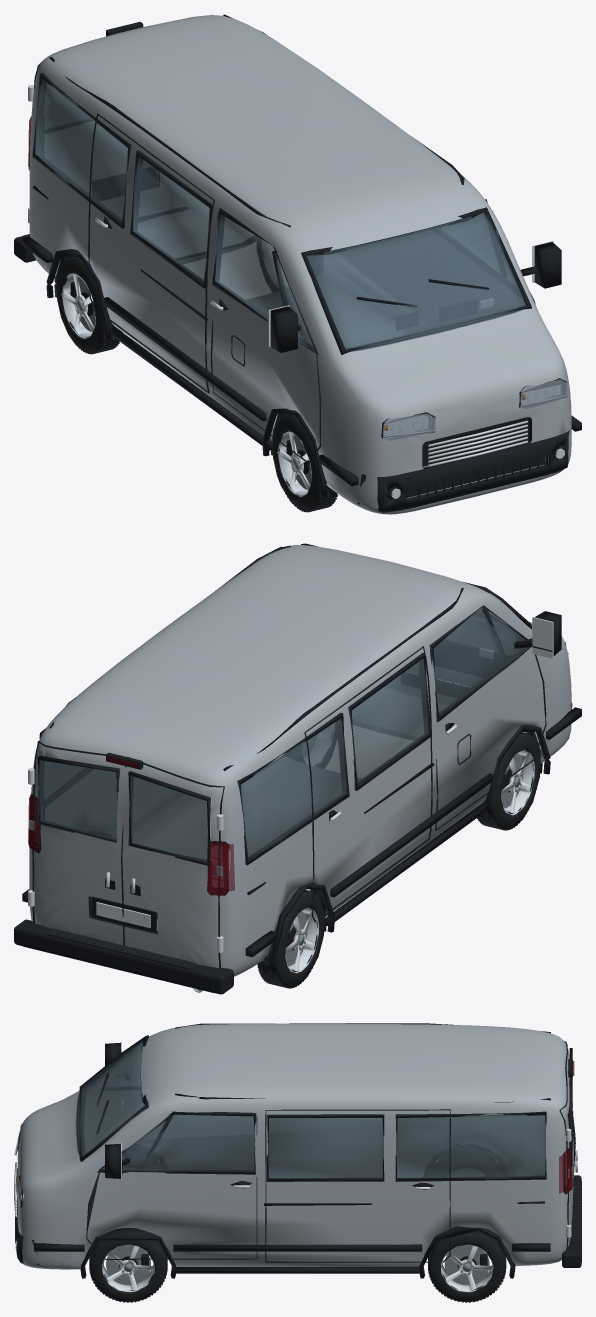
Rendered from car-van.glb.
3 views of the same model, one above another, from view 1: azimuth 30°, elevation 25°; view 2: azimuth 150°, elevation 25°; view 3: azimuth 270°, elevation 25° (orthographic). The views are drawn at different scales.
Visible parts, largest first — view 1: Van continuous hollow 12-station steel shell, Front door window curved transparent pane 1, Brake caliper, Wide moulded front bumper fascia, Air vent surround, 107 reused Sculpted_tyre.001, Clear foglamp cover, 107 reused Sculpted_tyre.003, Brake rotor hat.003, 107 reused Alloy_five_spoke_rim.003, 107 reused Alloy_five_spoke_rim.001; view 2: Van continuous hollow 12-station steel shell, Front door window curved transparent pane 1, Brake caliper, Air vent surround, 107 reused Sculpted_tyre.003, 107 reused Sculpted_tyre.001, High-mounted reflective red stop lens, Brake rotor hat.003, Broad contoured rear step bumper anti-slip tread rib, 107 reused Alloy_five_spoke_rim.003, 107 reused Alloy_five_spoke_rim.001; view 3: Van continuous hollow 12-station steel shell, Front door window curved transparent pane 1, Brake caliper, 107 reused Sculpted_tyre.002, 107 reused Sculpted_tyre, Brake rotor hat.002, Broad contoured rear step bumper anti-slip tread rib, 107 reused Sculpted_tyre.003, 107 reused Alloy_five_spoke_rim.002, 107 reused Alloy_five_spoke_rim, 107 reused Center_cap.002, 107 reused Center_cap (+3 smaller).
Boxes of the visible parts, x1,y1,x2,y2 form: Van continuous hollow 12-station steel shell: [29, 15, 571, 514]; Front door window curved transparent pane 1: [35, 79, 525, 354]; Brake caliper: [14, 14, 581, 500]; Wide moulded front bumper fascia: [353, 423, 572, 512]; Air vent surround: [28, 85, 564, 498]; 107 reused Sculpted_tyre.001: [272, 415, 338, 512]; Clear foglamp cover: [382, 379, 567, 440]; 107 reused Sculpted_tyre.003: [57, 257, 122, 354]; Brake rotor hat.003: [34, 30, 214, 393]; 107 reused Alloy_five_spoke_rim.003: [62, 273, 95, 338]; 107 reused Alloy_five_spoke_rim.001: [278, 431, 311, 496]; Van continuous hollow 12-station steel shell: [29, 545, 571, 976]; Front door window curved transparent pane 1: [38, 606, 531, 861]; Brake caliper: [14, 543, 581, 994]; Air vent surround: [28, 552, 553, 952]; 107 reused Sculpted_tyre.003: [257, 890, 324, 988]; 107 reused Sculpted_tyre.001: [477, 732, 540, 830]; High-mounted reflective red stop lens: [28, 756, 234, 895]; Brake rotor hat.003: [128, 646, 432, 968]; Broad contoured rear step bumper anti-slip tread rib: [46, 731, 542, 974]; 107 reused Alloy_five_spoke_rim.003: [193, 907, 318, 992]; 107 reused Alloy_five_spoke_rim.001: [501, 749, 534, 815]; Van continuous hollow 12-station steel shell: [17, 1023, 574, 1269]; Front door window curved transparent pane 1: [75, 1040, 572, 1179]; Brake caliper: [15, 1023, 581, 1278]; 107 reused Sculpted_tyre.002: [428, 1231, 506, 1302]; 107 reused Sculpted_tyre: [89, 1240, 167, 1302]; Brake rotor hat.002: [265, 1067, 568, 1281]; Broad contoured rear step bumper anti-slip tread rib: [80, 1144, 581, 1276]; 107 reused Sculpted_tyre.003: [430, 1152, 504, 1176]; 107 reused Alloy_five_spoke_rim.002: [441, 1244, 493, 1292]; 107 reused Alloy_five_spoke_rim: [102, 1244, 154, 1292]; 107 reused Center_cap.002: [444, 1245, 492, 1285]; 107 reused Center_cap: [106, 1245, 153, 1285].
Bounding box in the file's own units: 2.59 × 2.3 × 5.7.
Materials: 9 (9 with a texture image).
